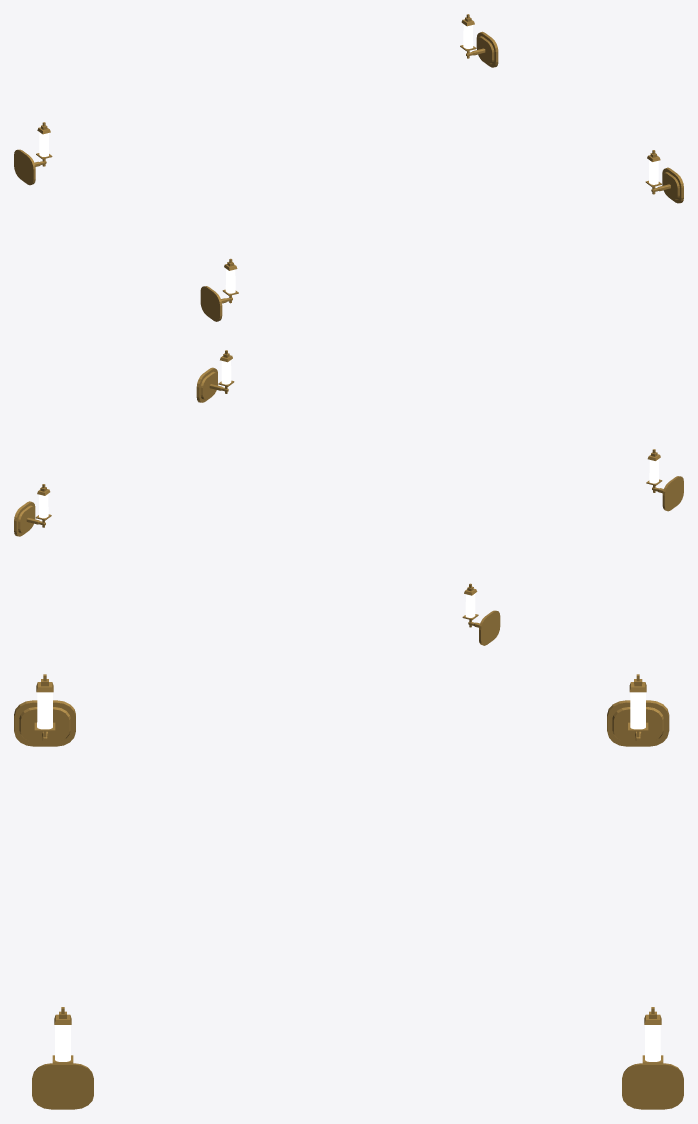
The model's file is WallLights.glb.
3 views of the same model, one above another, from view 1: azimuth 30°, elevation 25°; view 2: azimuth 150°, elevation 25°; view 3: azimuth 270°, elevation 25° (orthographic). The views are drawn at different scales.
Parts seen in each view (by area): view 1: WallLight.001, WallLight.004, WallLight.003, WallLight.002; view 2: WallLight.003, WallLight.002, WallLight.001, WallLight.004; view 3: WallLight.002, WallLight.001, WallLight.003, WallLight.004.
Boxes of the visible parts, x1=… form: WallLight.001: x1=460, y1=14, x2=498, y2=67; WallLight.004: x1=200, y1=258, x2=238, y2=321; WallLight.003: x1=14, y1=122, x2=52, y2=185; WallLight.002: x1=645, y1=150, x2=683, y2=203; WallLight.003: x1=462, y1=583, x2=500, y2=645; WallLight.002: x1=196, y1=350, x2=234, y2=402; WallLight.001: x1=14, y1=484, x2=51, y2=536; WallLight.004: x1=646, y1=449, x2=683, y2=511; WallLight.002: x1=32, y1=1007, x2=93, y2=1109; WallLight.001: x1=622, y1=1007, x2=683, y2=1109; WallLight.003: x1=607, y1=674, x2=669, y2=746; WallLight.004: x1=14, y1=674, x2=75, y2=746.
Size of the model in its own units: 3.7 by 0.407 by 2.87.
3 materials, 1 textured.
